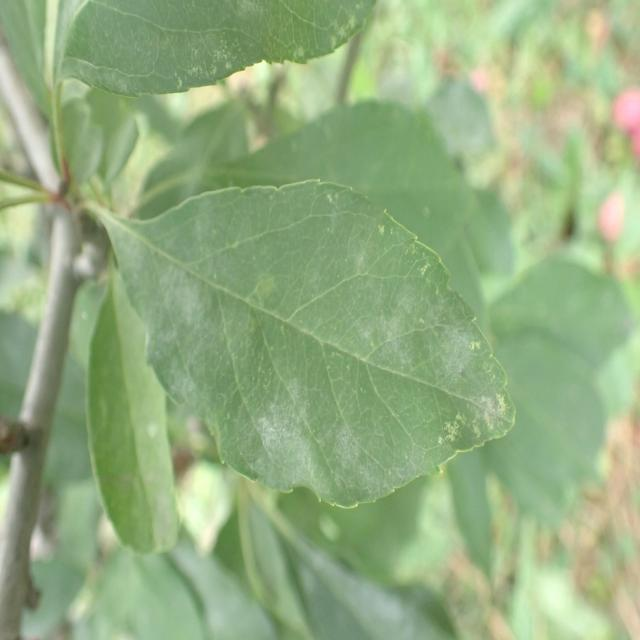Powdery_mildew: (98, 175, 521, 498)
